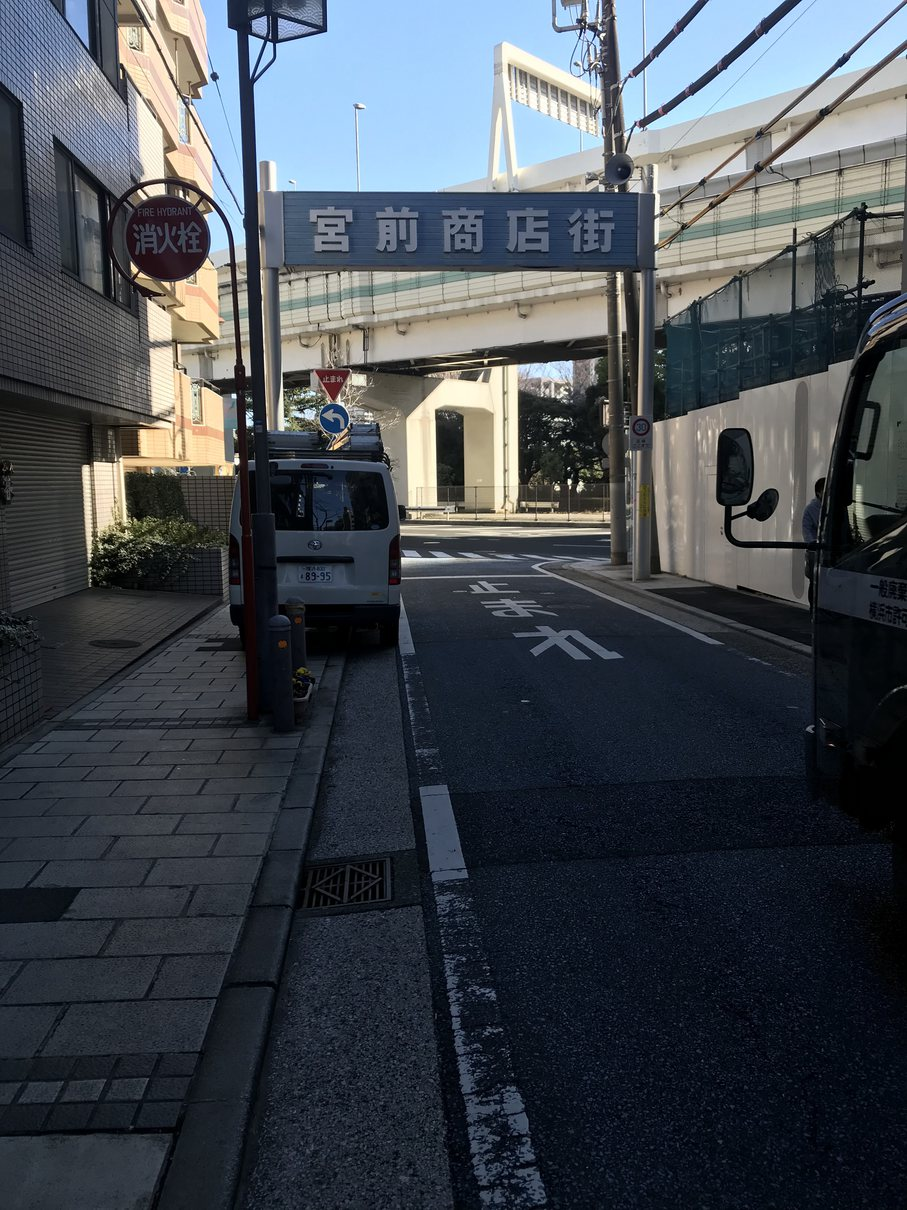stop_sign: (312, 366, 352, 401)
